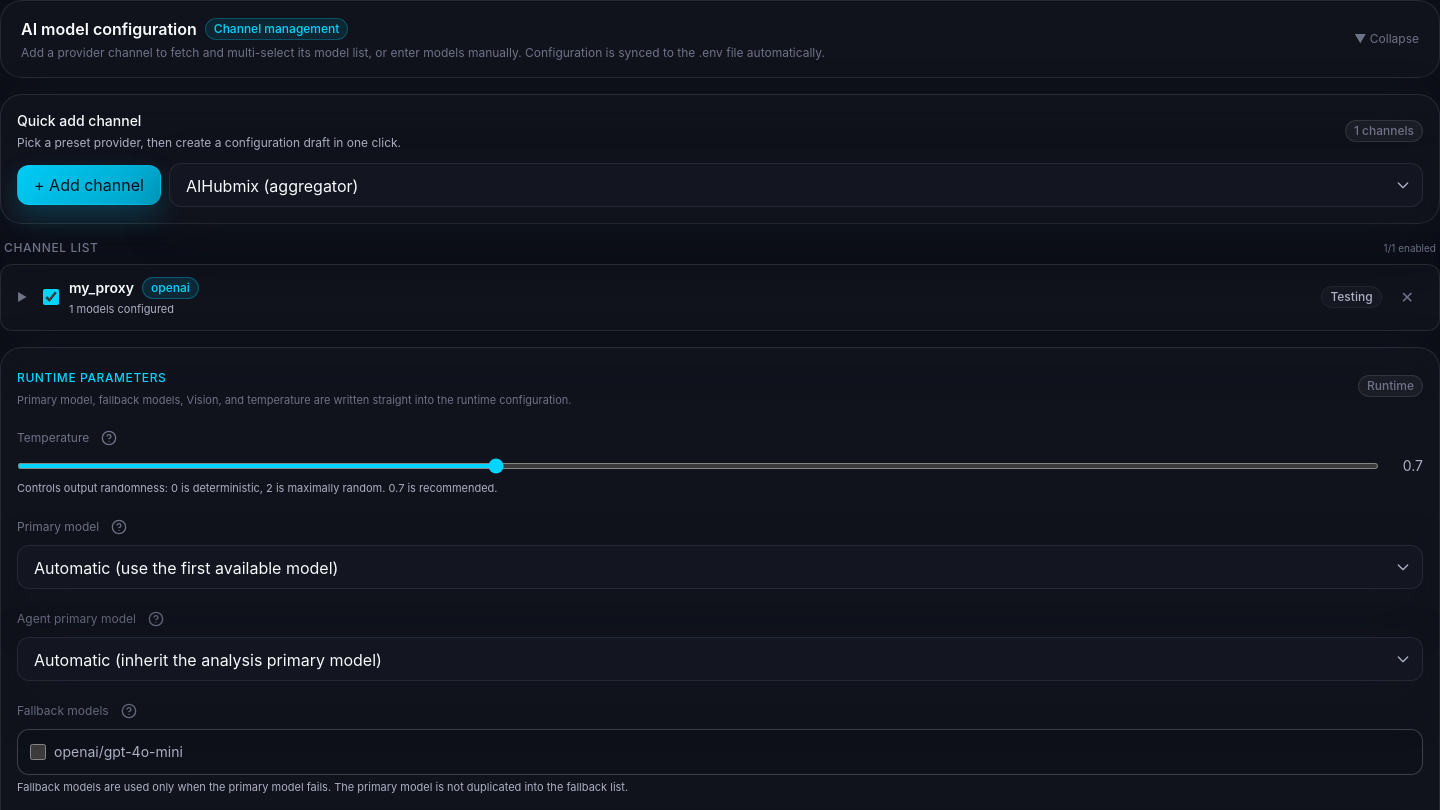
Test: LLMChannelEditor › uses runtime API_KEYS when both API_KEY and API_KEYS coexist
This screenshot has width=1440, height=810.
Step 1. Click the button "▶ my_proxy openai 1 models configured Testing ✕" → (101, 288), box x1=1 y1=265 x2=1439 y2=330
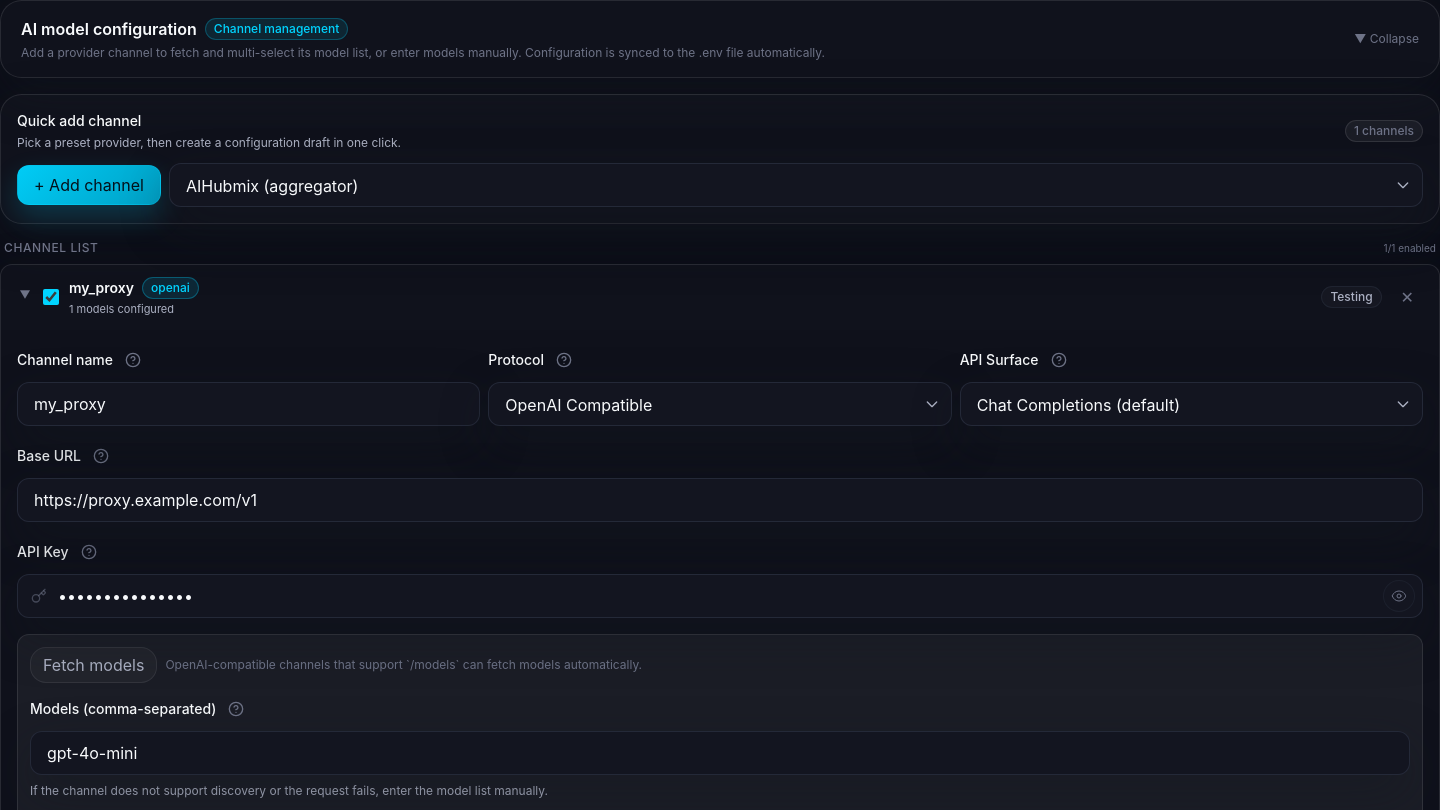
Result: the password field labelled "API Key" holds "sk-runtime-only" at x1=17 y1=574 x2=1423 y2=618
